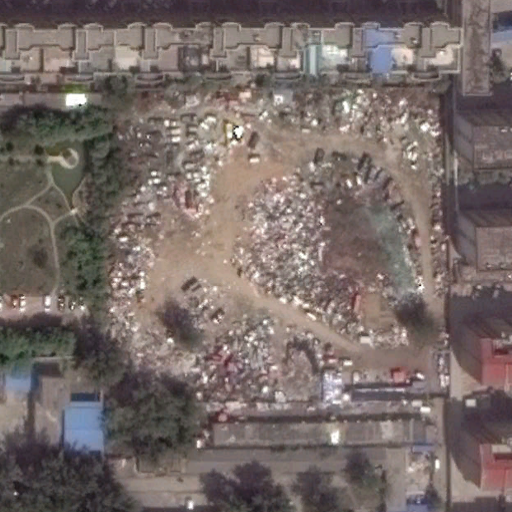msw: (105, 89, 454, 404)
